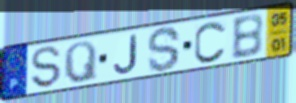B: (230, 12, 265, 62)
C: (192, 19, 228, 64)
J: (112, 33, 139, 76)
Q: (62, 40, 99, 85)
S: (146, 25, 183, 74), (29, 45, 63, 90)
